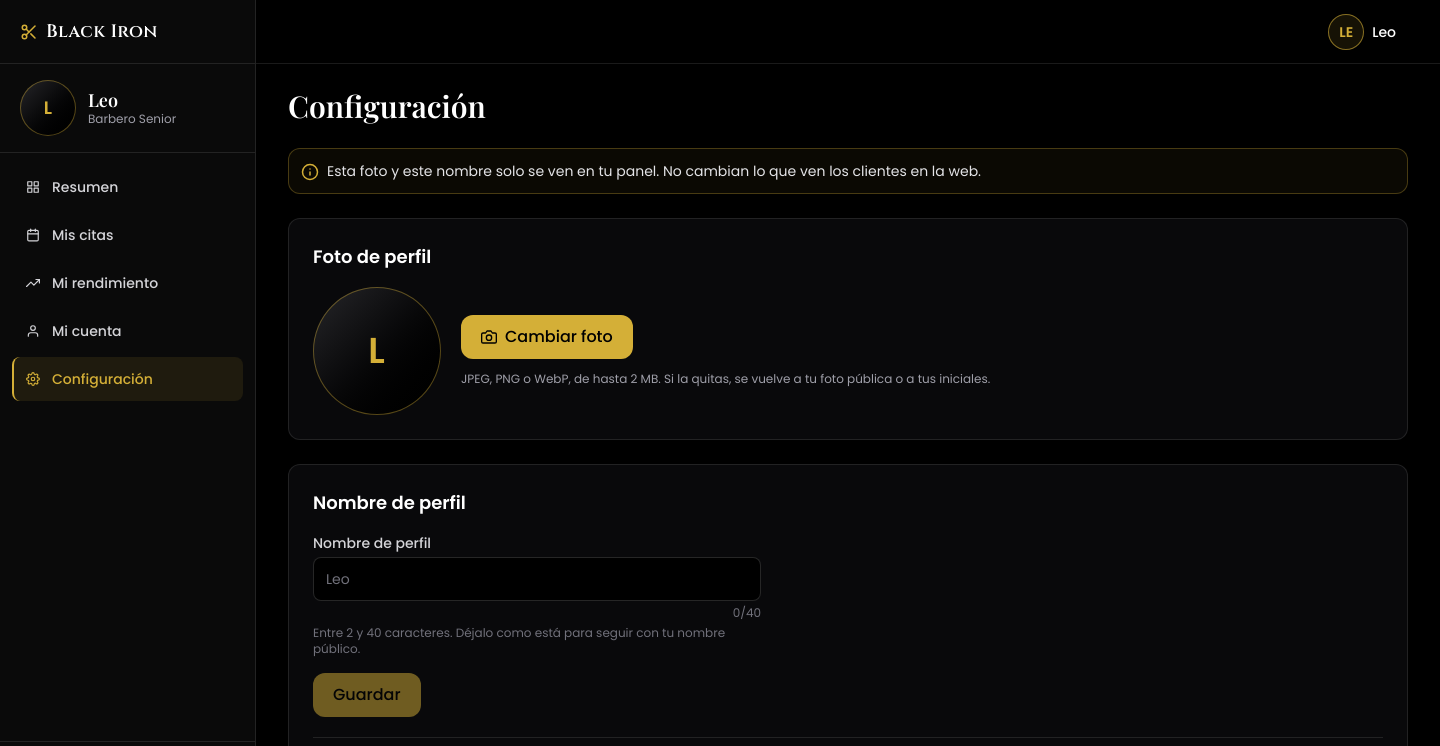
/panel/configuracion (barbero) › un error del back-end al guardar el nombre se muestra junto al campo
Type "Nombre Valido" into the field labelled "Nombre de perfil" at (537, 579), box [313,557,761,601]
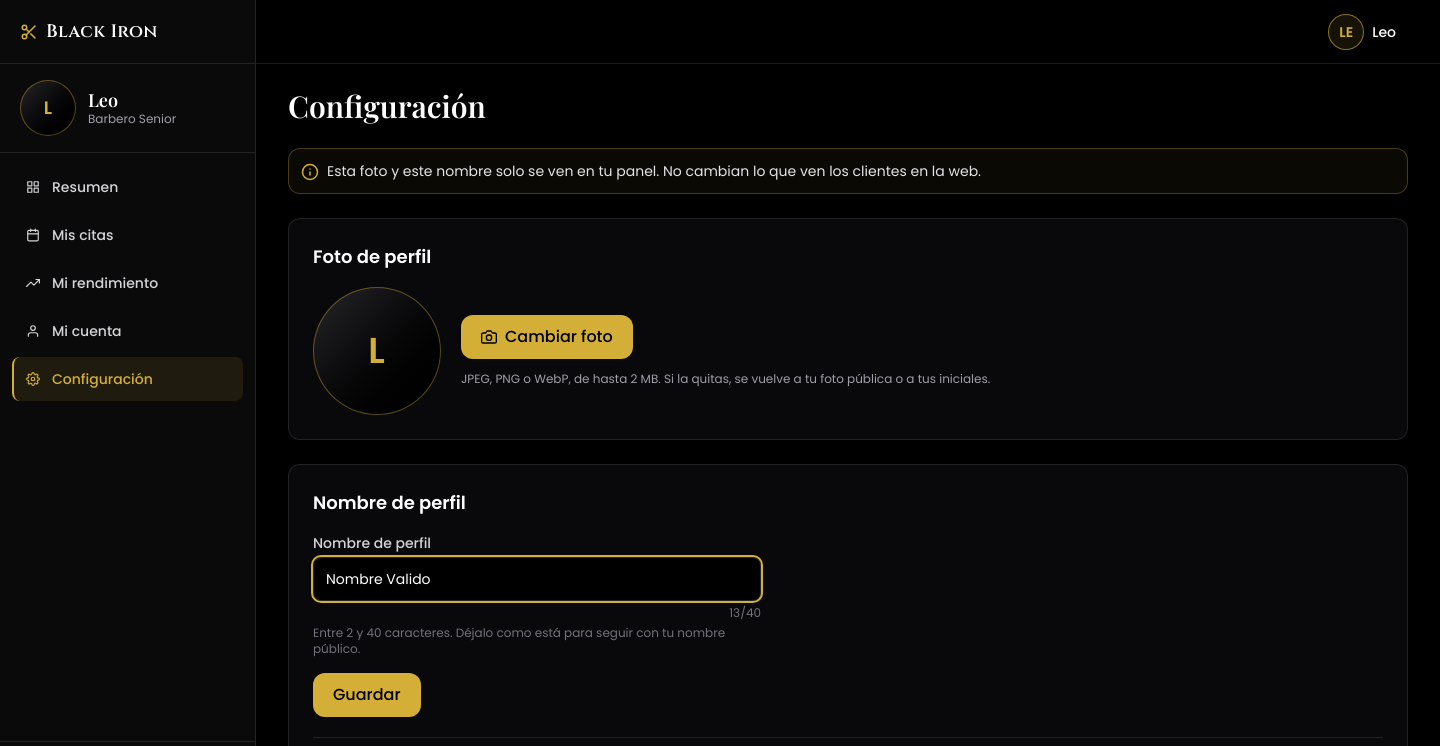
Click the button "Guardar" at (367, 695), box [313,673,421,717]
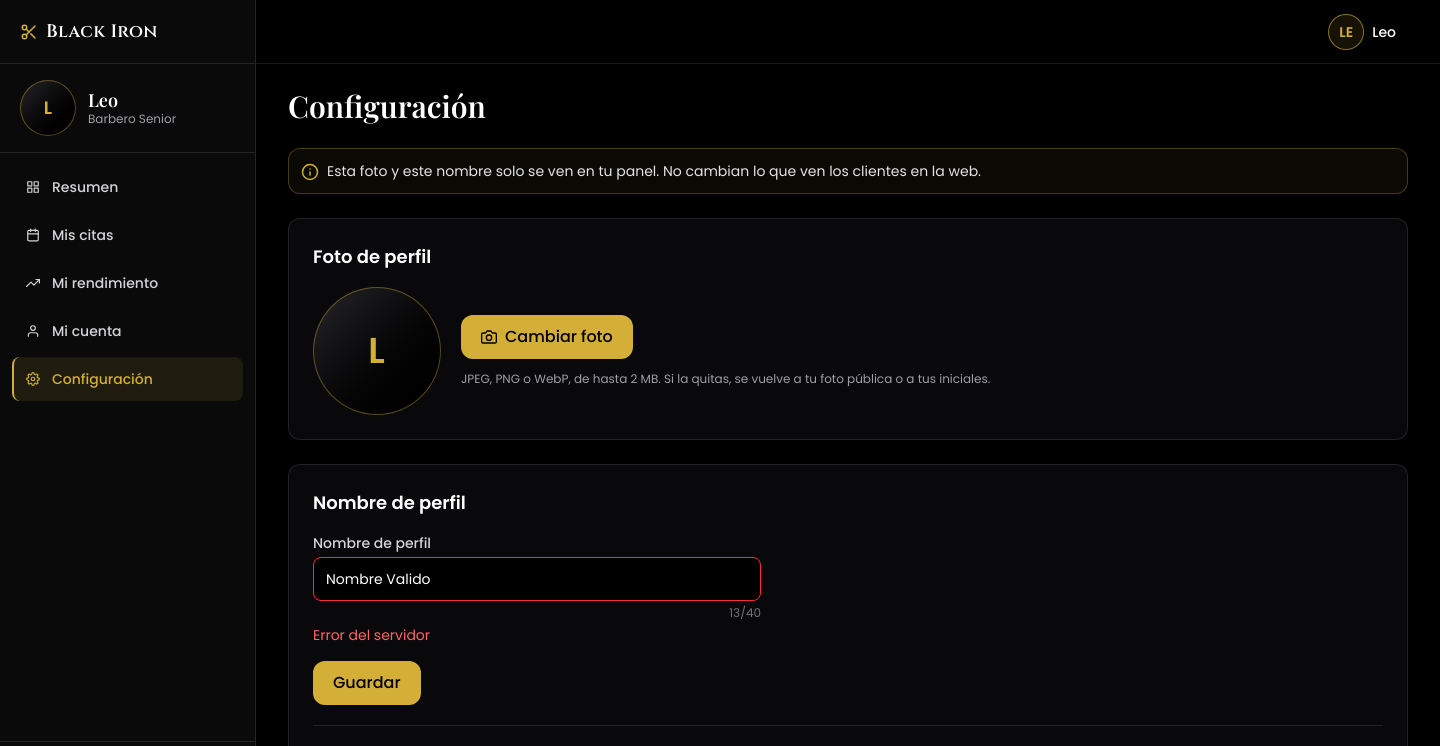
Check: the button "Guardar" is enabled, box [313,661,421,705]
Check: the message reads "Error del servidor", box [313,625,430,645]
